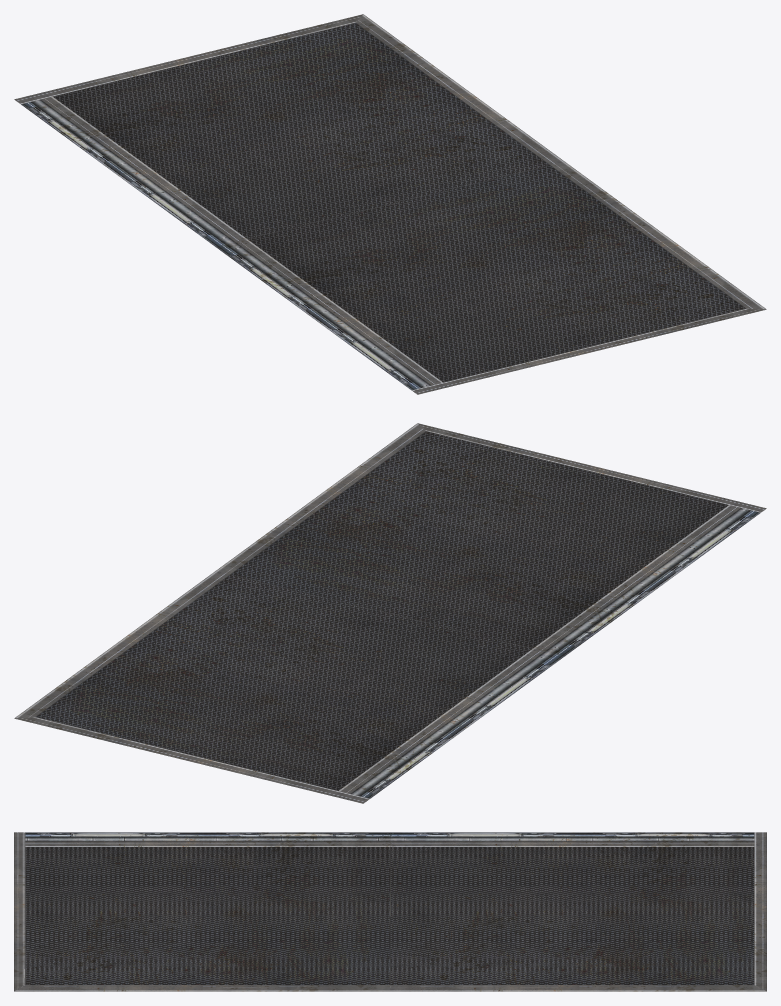
File: Floor_A_5mts_02.fbx
3 views of the same model, one above another, from view 1: azimuth 30°, elevation 25°; view 2: azimuth 150°, elevation 25°; view 3: azimuth 270°, elevation 25° (orthographic). The views are drawn at different scales.
Parts seen in each view (by area): view 1: Floor_A_5mts_02; view 2: Floor_A_5mts_02; view 3: Floor_A_5mts_02.
Boxes of the visible parts, x1=… form: Floor_A_5mts_02: x1=14, y1=14, x2=766, y2=394; Floor_A_5mts_02: x1=14, y1=423, x2=766, y2=803; Floor_A_5mts_02: x1=14, y1=832, x2=766, y2=991.
Bounding box in the file's own units: 250 × 2.52e-05 × 500.
1 material, 1 textured.
